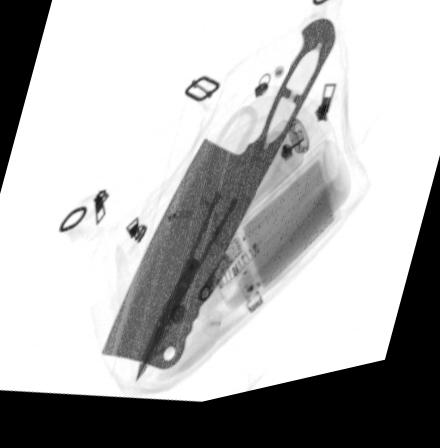Knife: (99, 34, 335, 380)
Powerbank: (216, 163, 345, 323)
Scissors: (131, 115, 286, 391)
Sprayer: (198, 114, 332, 250)
